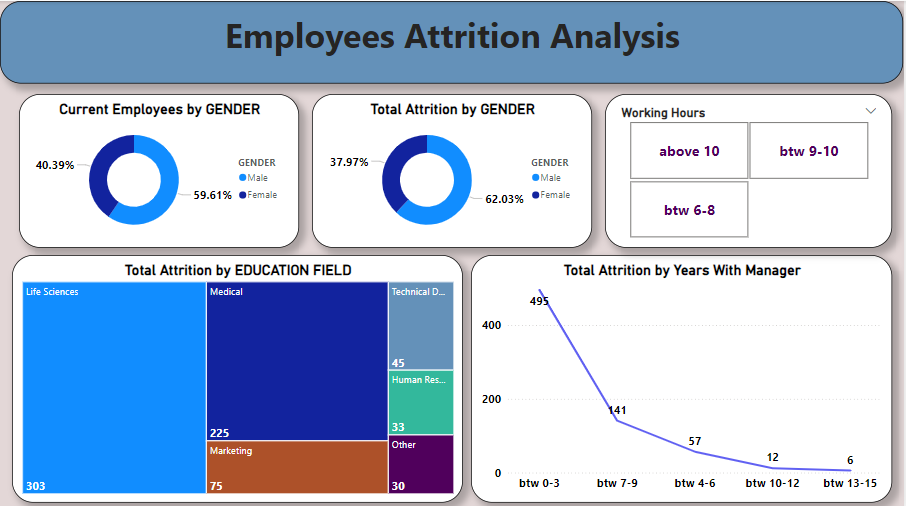

What the dashboard file says about the page in this screenshot:
{"tool":"powerbi","page":{"name":"Total Attrition Categories","canvas":[1280,720],"ordinal":2},"visuals":[{"type":"textbox","box":[0,0,1280.2,116.6],"z":0},{"type":"donutChart","fields":{"Y":["Model_Measures.Current Employees"],"Category":["EMPLOYEEINFO.GENDER"]},"box":[26.9,131.8,396.9,218.3],"z":1000},{"type":"donutChart","fields":{"Category":["EMPLOYEEINFO.GENDER"],"Y":["Model_Measures.Total Attrition"]},"box":[442.2,131.8,396.9,218.3],"z":2000},{"type":"treemap","title":"Total Attrition by EDUCATION FIELD","fields":{"Values":["Model_Measures.Total Attrition"],"Group":["EMPLOYEEINFO.EDUCATIONFIELD"]},"box":[17,360,639.2,351.5],"z":3000},{"type":"lineChart","title":"Total Attrition by Years With Manager","fields":{"Y":["Model_Measures.Total Attrition"],"Category":["Fact_Table.Years_With_Manager"]},"box":[667.6,360,596.7,351.5],"z":4000},{"type":"slicer","fields":{"Values":["Fact_Table.Avg Working Hours Groups"]},"box":[857.5,131.8,406.8,218.3],"z":5000}]}

Visuals, with their boxes in screenshot pixels (x1, y1, x2, y2), scaled from the page's 1280x720 canvas onto the 906x506 screenshot:
textbox: l=0, t=0, r=905, b=82
donutChart - Model_Measures.Current Employees x EMPLOYEEINFO.GENDER: l=19, t=93, r=300, b=246
donutChart - EMPLOYEEINFO.GENDER x Model_Measures.Total Attrition: l=313, t=93, r=594, b=246
"Total Attrition by EDUCATION FIELD" treemap: l=12, t=253, r=464, b=500
"Total Attrition by Years With Manager" lineChart: l=473, t=253, r=895, b=500
slicer - Fact_Table.Avg Working Hours Groups: l=607, t=93, r=895, b=246
